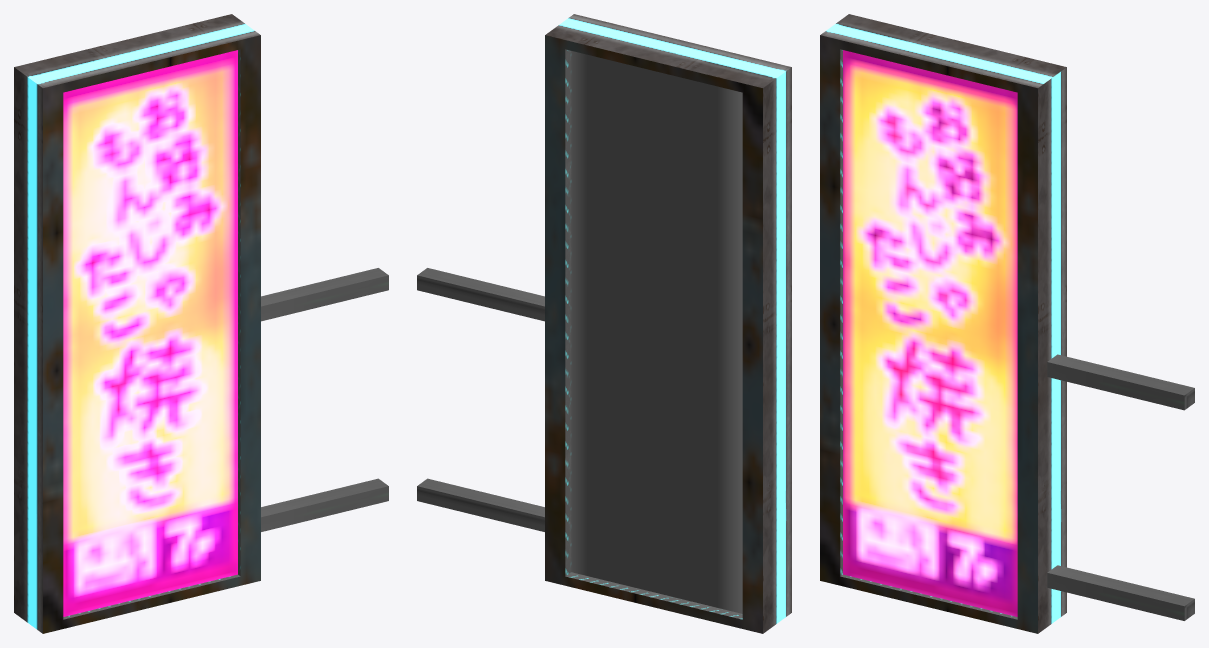
The model's file is Japanese_Sign_16.glb.
3 renders of one model, left to right at view 1: azimuth 30°, elevation 25°; view 2: azimuth 150°, elevation 25°; view 3: azimuth 330°, elevation 25°, orthographic.
Visible parts, largest first — view 1: Japanese_Sign_16; view 2: Japanese_Sign_16; view 3: Japanese_Sign_16.
Part boxes in pixels (x1,y1,x2,y2): Japanese_Sign_16: (14, 14, 388, 633); Japanese_Sign_16: (417, 14, 791, 633); Japanese_Sign_16: (820, 14, 1194, 633).
Bounding box in the file's own units: 0.8982 × 1.32 × 0.1264.
2 materials, 1 textured.
